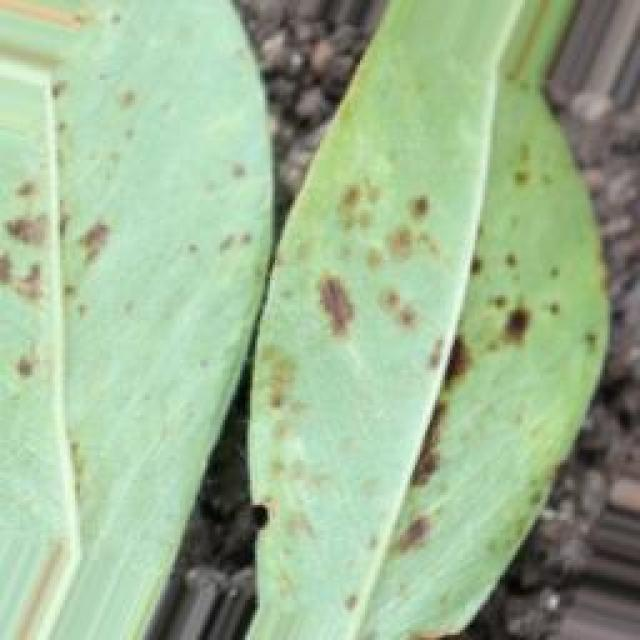Whitefly: (0, 0, 568, 616)
